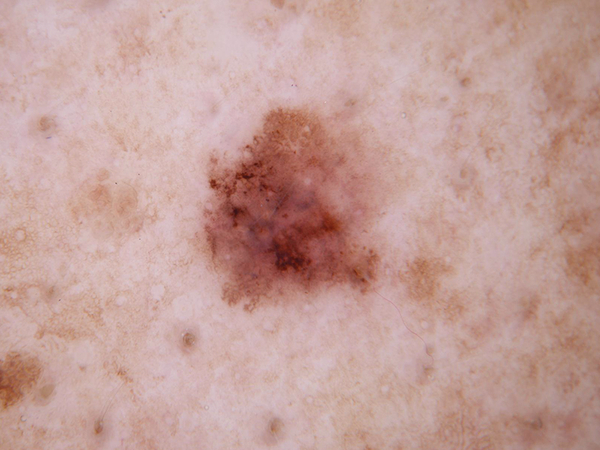Scab: (266, 232, 311, 273)
